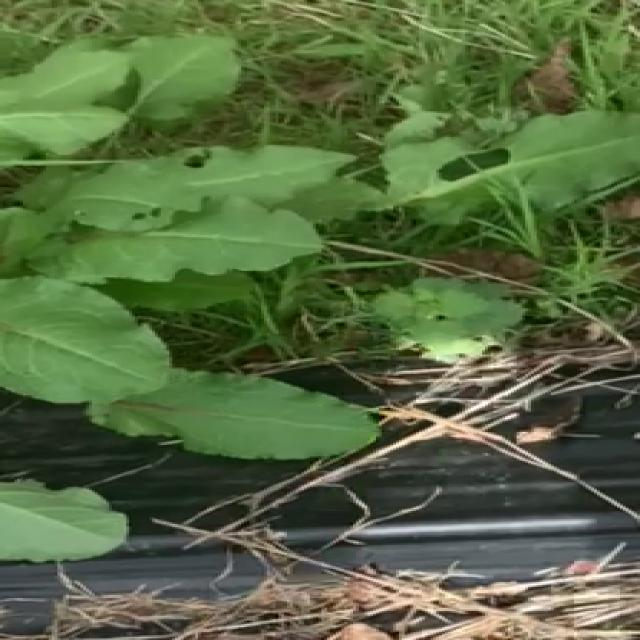organic waste: (0, 6, 640, 587)
